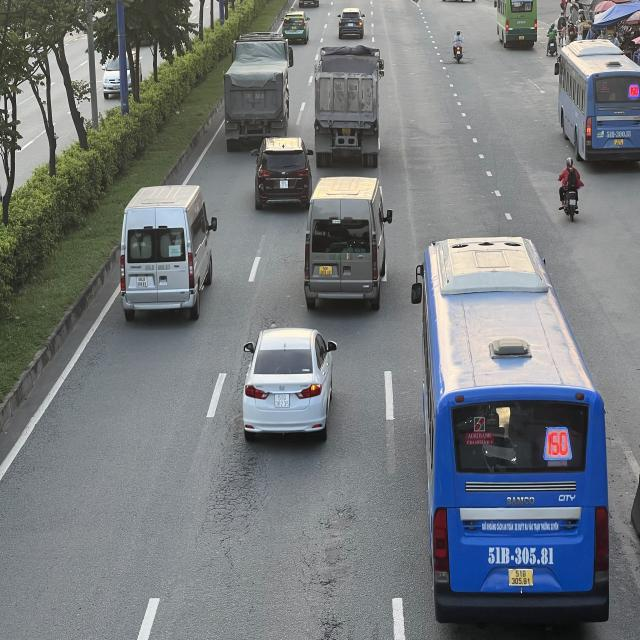car: (242, 326, 338, 440), (254, 140, 312, 212), (280, 9, 310, 44), (337, 7, 367, 38)
coach: (424, 238, 610, 622), (553, 39, 638, 164), (495, 1, 539, 48)
container: (314, 45, 386, 168), (225, 34, 296, 150)
van: (118, 182, 216, 320), (306, 178, 396, 311)
